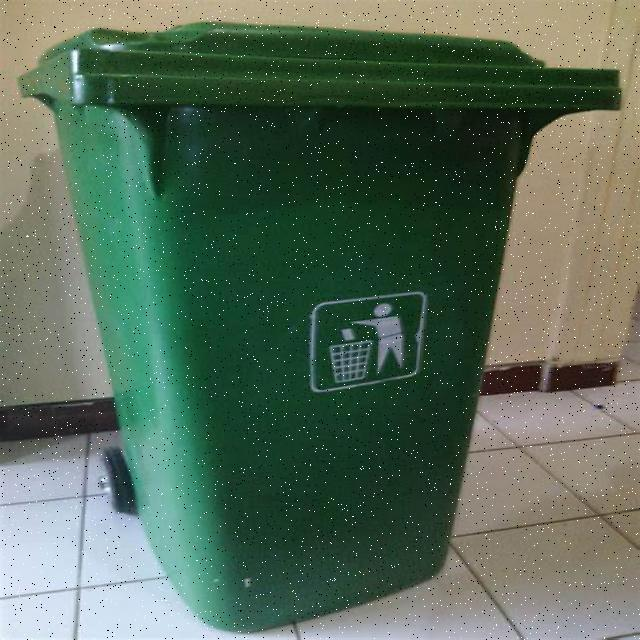garbage container: (26, 12, 640, 627)
